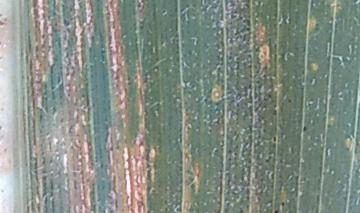tarspot: (302, 124, 308, 133), (273, 208, 281, 213), (286, 97, 292, 103), (273, 135, 277, 143), (273, 109, 277, 116), (281, 202, 286, 207)
